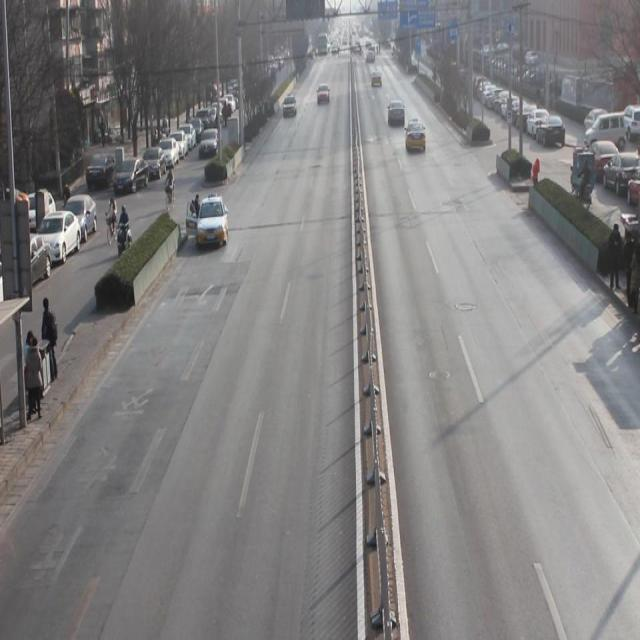car: (194, 190, 229, 251), (384, 96, 407, 128), (406, 119, 426, 154), (282, 87, 297, 119), (316, 79, 332, 107)
